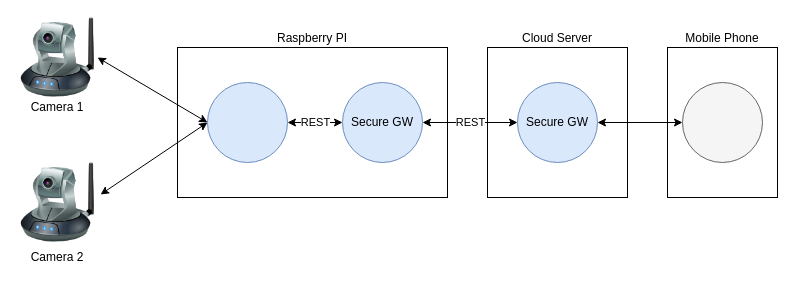
The diagram is 795 pixels wide and 284 high, and some of its shapes have lost their labels. Each missing label, with the centre of its shape:
"MoutionEye" goes at (x=247, y=122).
"Telegram" goes at (x=722, y=122).
